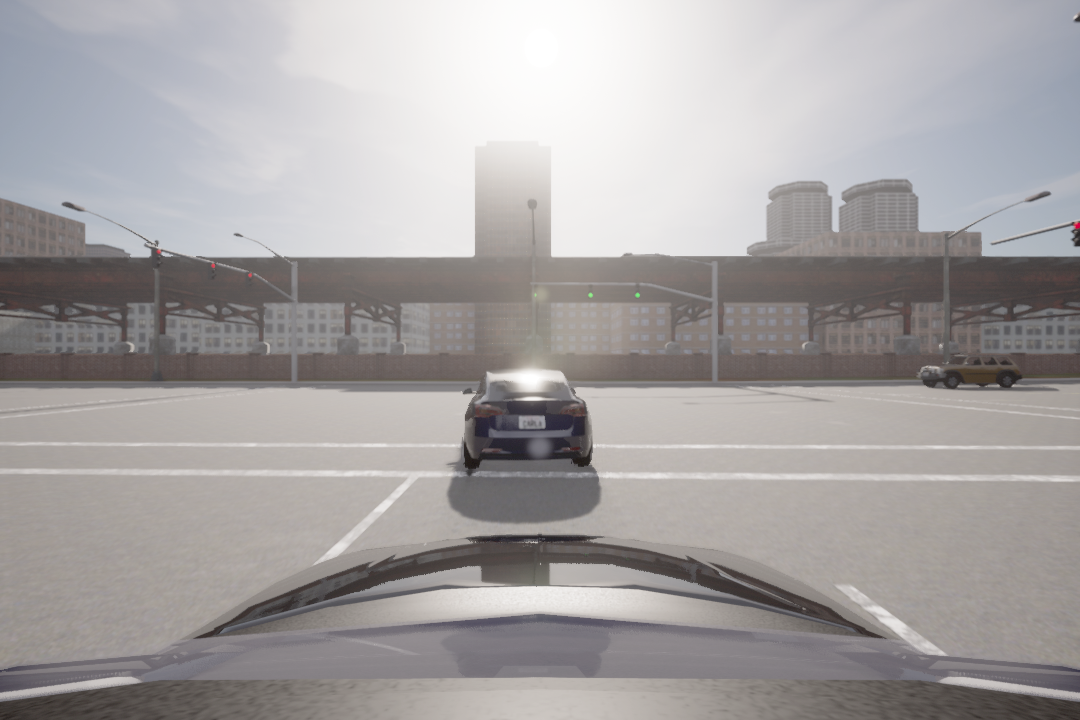TrafficLight: (147, 243, 167, 271), (1068, 217, 1080, 254), (584, 278, 598, 301), (632, 281, 644, 300), (206, 260, 217, 280), (245, 268, 254, 289)
